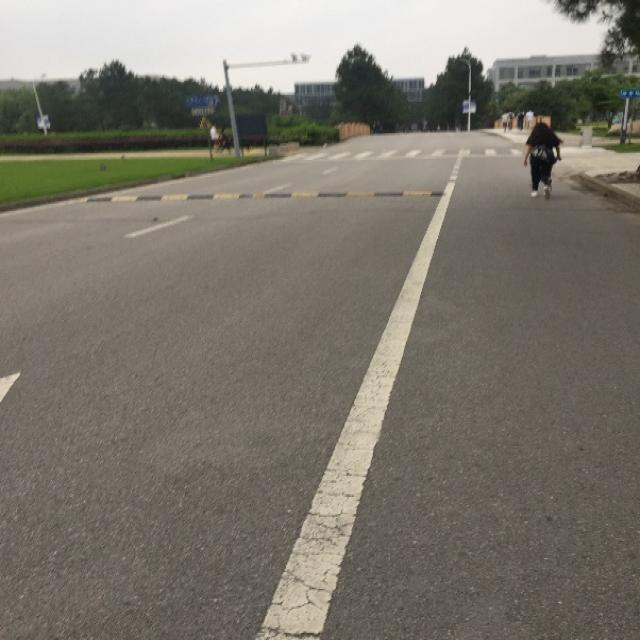Speed Bump: (76, 187, 446, 204)
